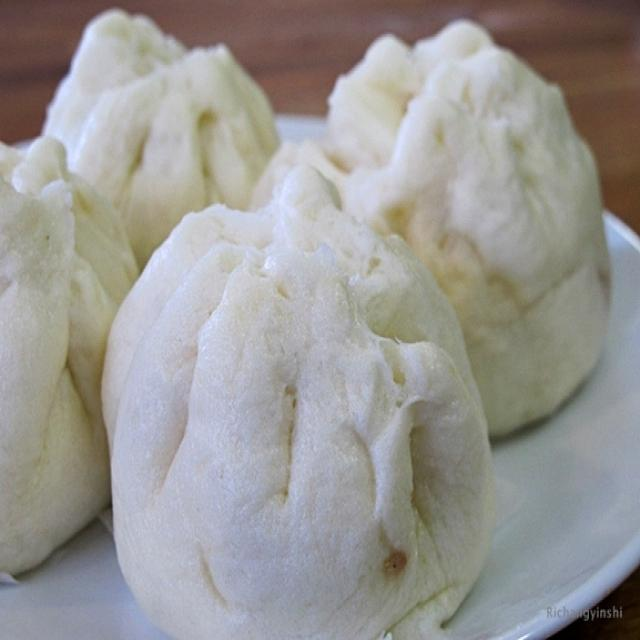带馅早点: (14, 8, 604, 610)
